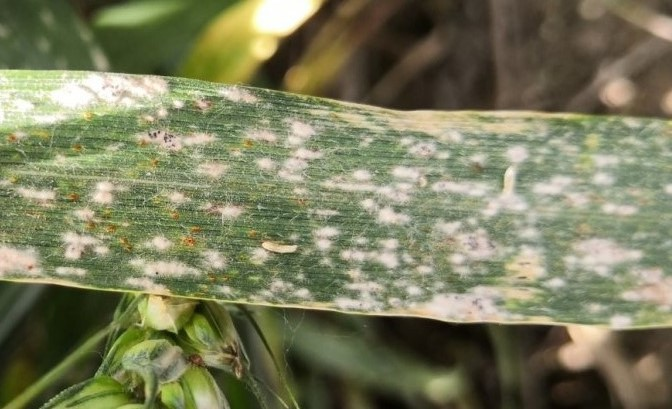Powdery Mildew: (134, 103, 533, 321)
